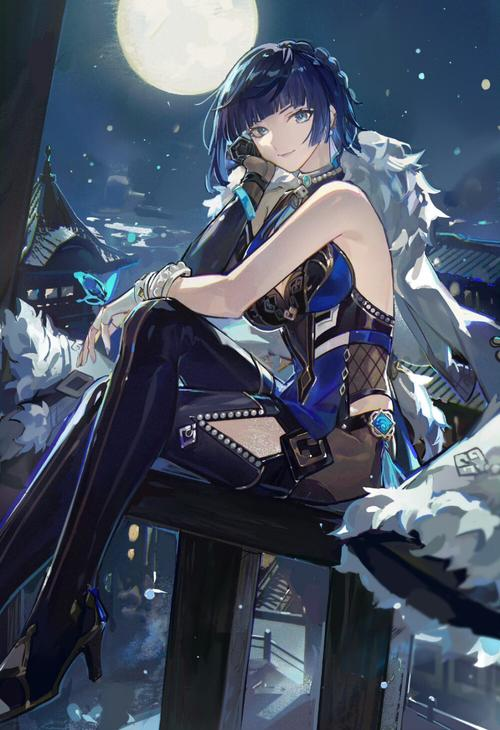夜兰: (1, 38, 401, 720)
